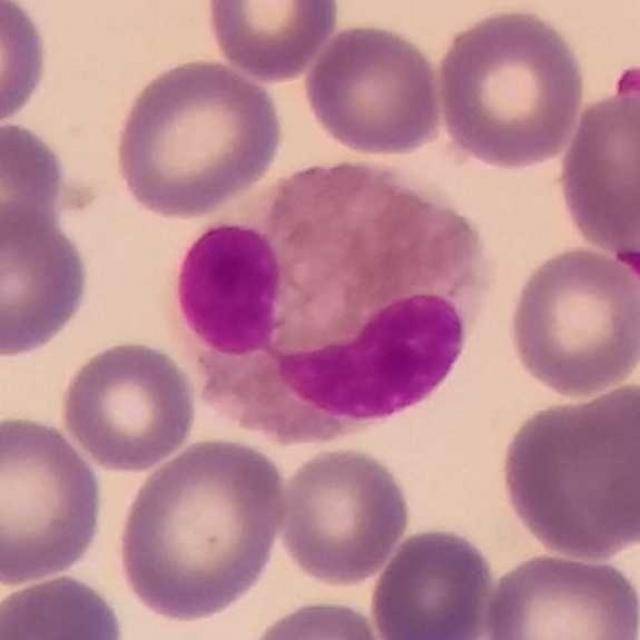eosino: (172, 161, 493, 446)
